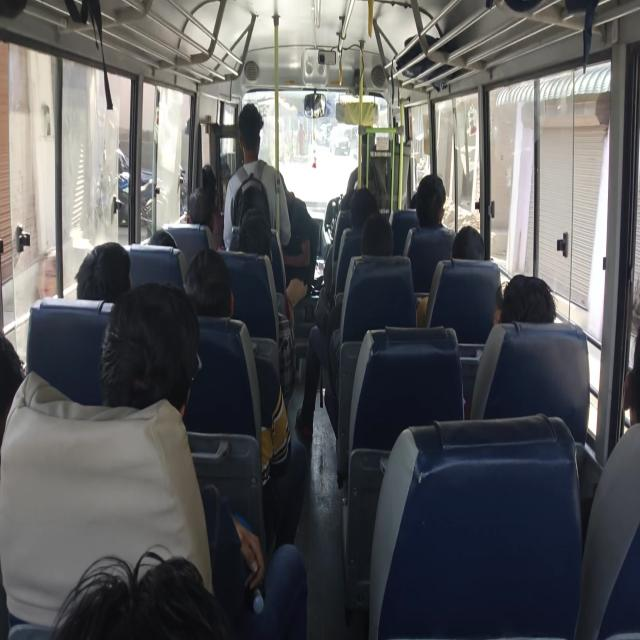person: (32, 553, 267, 640), (113, 295, 199, 426), (609, 326, 640, 451), (358, 217, 414, 280), (81, 237, 132, 300), (442, 215, 498, 267), (200, 250, 242, 316), (0, 328, 40, 392), (503, 274, 542, 334), (415, 179, 458, 229), (187, 182, 219, 236), (354, 188, 392, 233), (150, 224, 190, 262), (234, 206, 287, 233), (239, 102, 268, 150), (402, 185, 421, 219), (199, 161, 218, 194)
